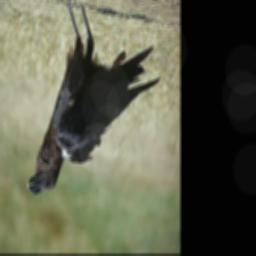Crow: (26, 2, 161, 196)
